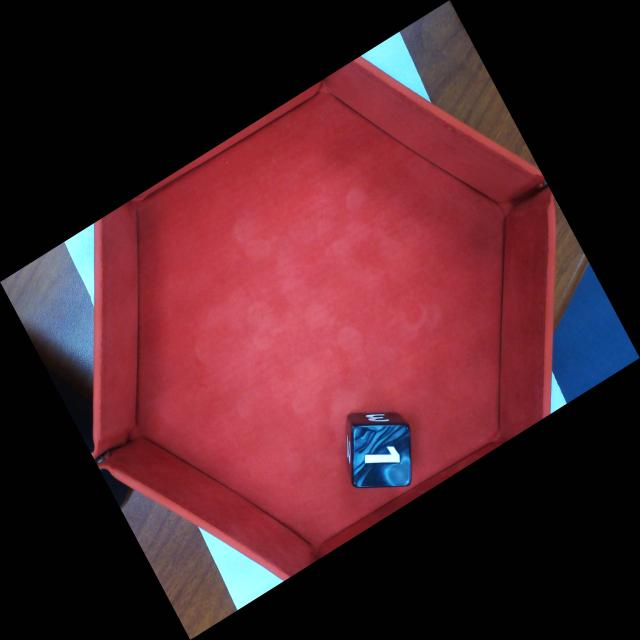dice: (358, 426, 410, 485)
